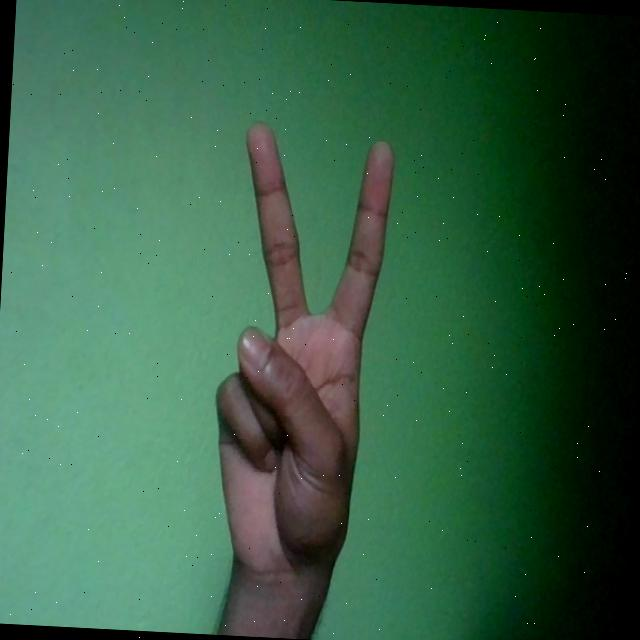Fist: (206, 121, 397, 592)
